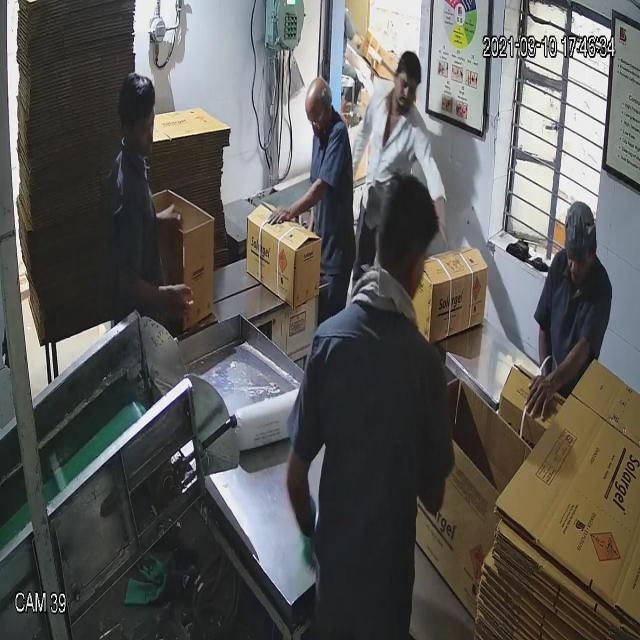No_Gloves: (35, 67, 559, 374)
